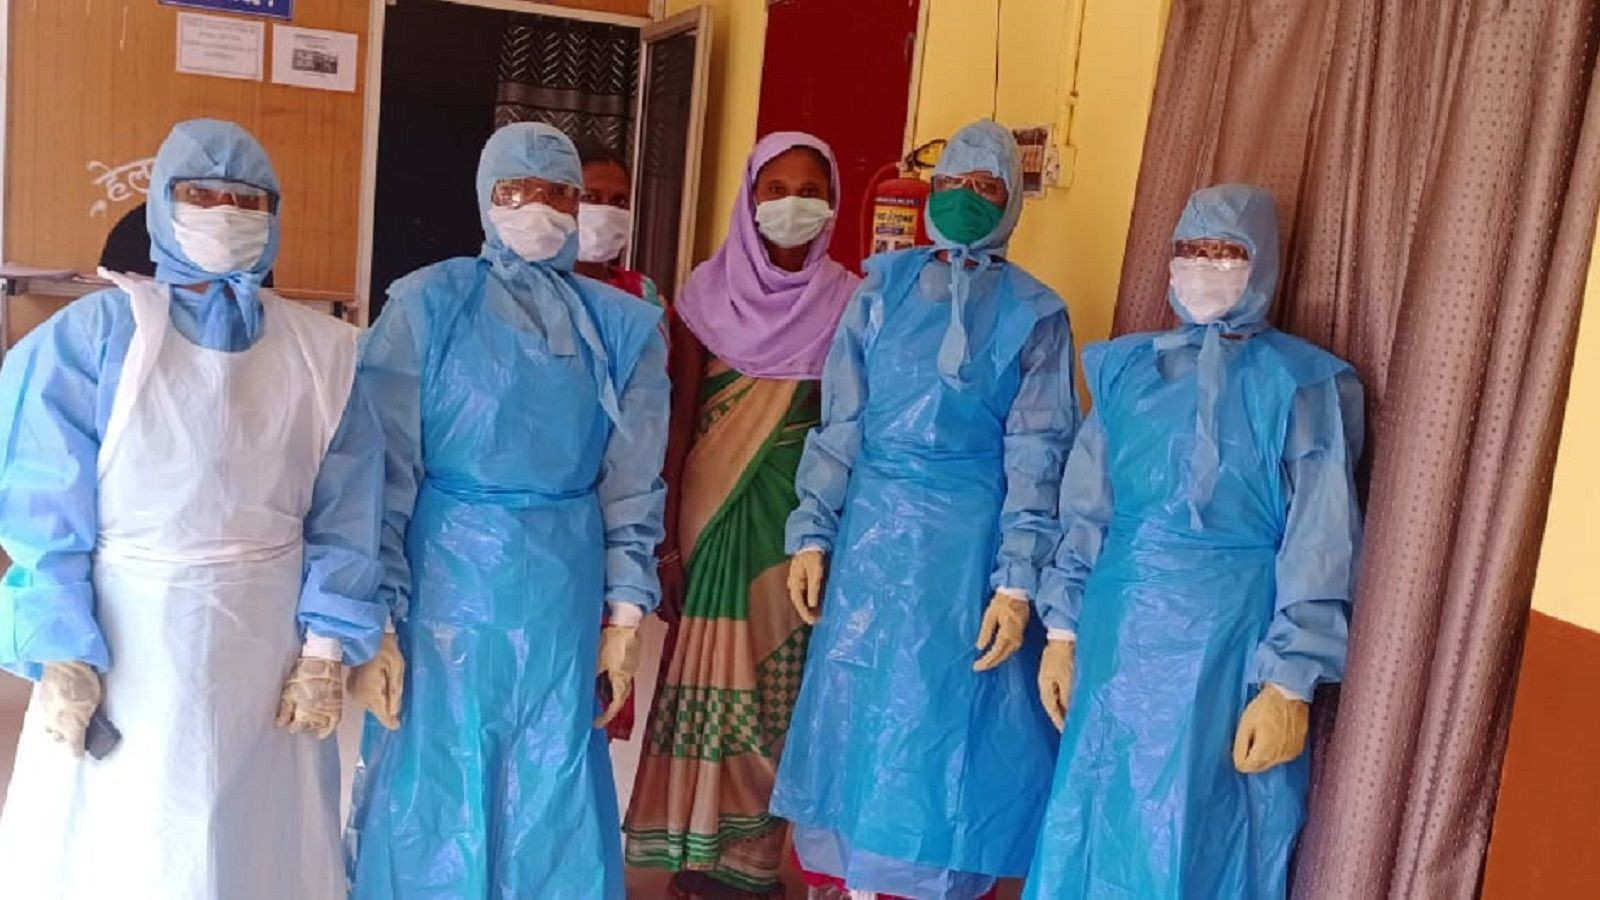Coverall: (1, 117, 401, 900), (1010, 175, 1372, 900), (355, 117, 680, 900), (768, 112, 1079, 900)
Gloves: (1224, 677, 1310, 784), (29, 657, 103, 765), (343, 627, 415, 734), (272, 646, 349, 739), (589, 620, 637, 741), (1032, 629, 1082, 738), (967, 586, 1025, 674), (780, 543, 832, 632)
Goggles: (160, 172, 287, 225), (487, 174, 582, 212), (1167, 232, 1255, 272), (927, 172, 1012, 205)
with_mask: (172, 181, 268, 275), (760, 158, 829, 263), (1165, 239, 1249, 322), (491, 188, 575, 262), (932, 175, 1005, 250), (577, 188, 637, 269)
